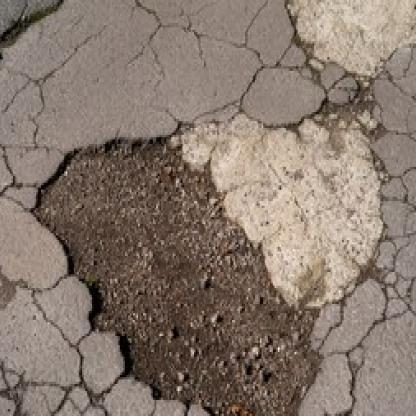pothole: (43, 138, 390, 398), (283, 0, 416, 73)
